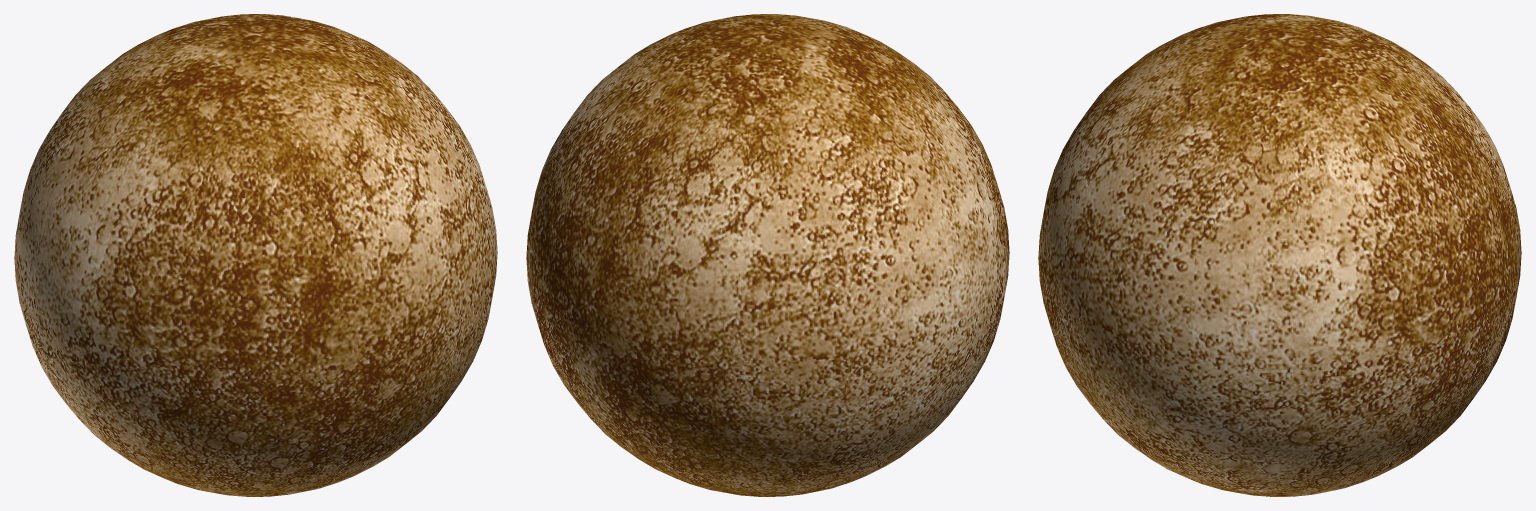
Rendered from mercury.obj.
The picture shows the model from 3 angles, left to right: view 1: azimuth 30°, elevation 25°; view 2: azimuth 150°, elevation 25°; view 3: azimuth 270°, elevation 25°; orthographic projection.
Parts seen in each view (by area): view 1: pSphere1; view 2: pSphere1; view 3: pSphere1.
Part boxes in pixels (box(x1,y1,x2,y2)): pSphere1: box(14, 14, 497, 496); pSphere1: box(526, 14, 1009, 496); pSphere1: box(1038, 14, 1521, 496).
Bounding box in the file's own units: 1.99 × 2 × 2.
Materials: 1 (1 with a texture image).
